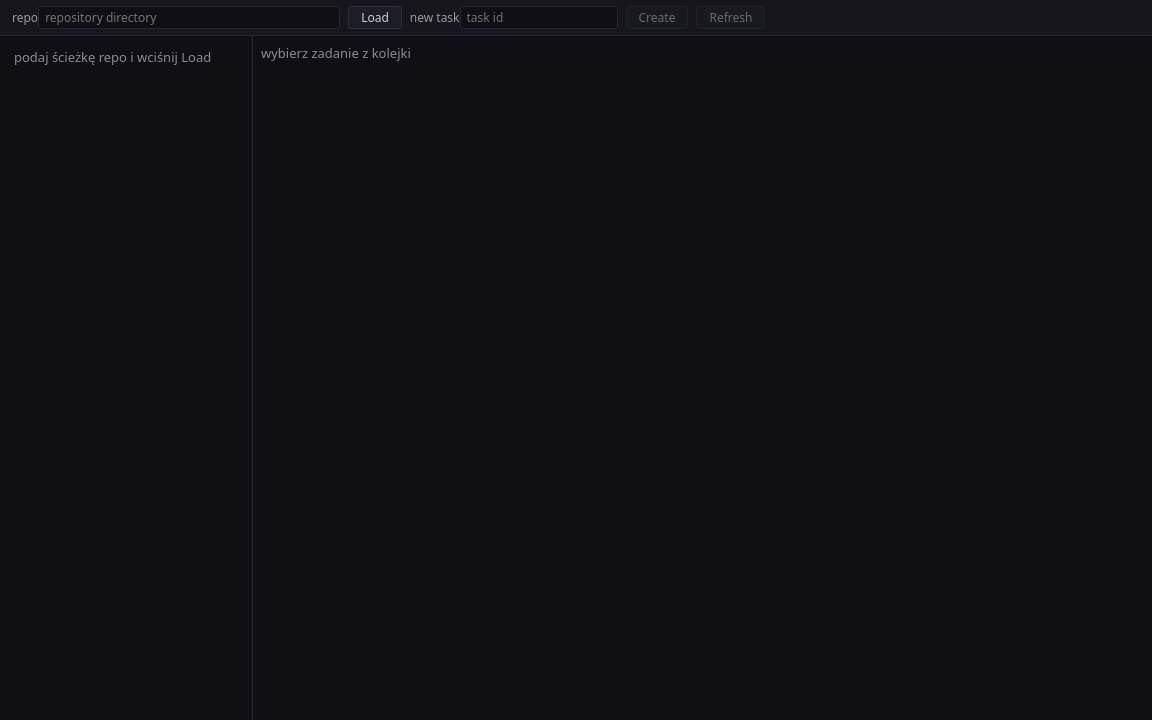
ReviewPanel › switches the patch when another file is selected
Step 1. Type "C:/repo" into the field with test id "review-repo" → (189, 18), box top-left (38, 6), bottom-right (340, 29)
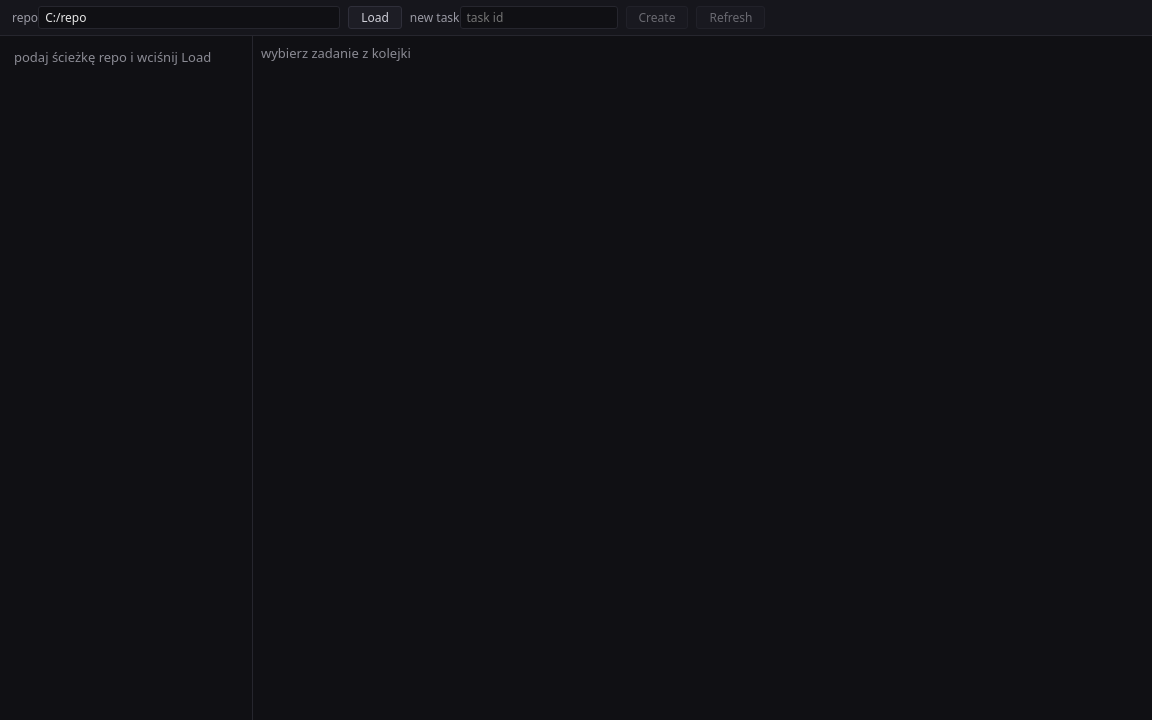
Step 2. Click the button with test id "review-load" → (375, 18), box top-left (348, 6), bottom-right (402, 29)
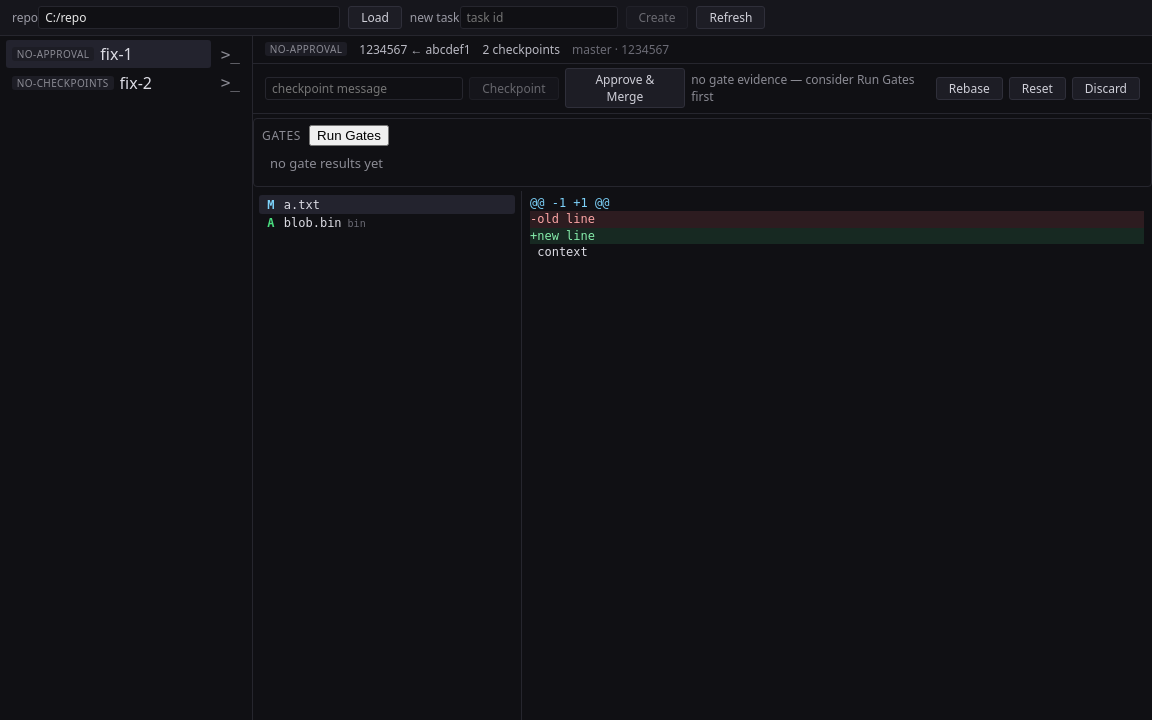
Step 3. Click the button with test id "review-file" showing "A blob.bin bin" → (387, 223), box top-left (259, 214), bottom-right (515, 233)
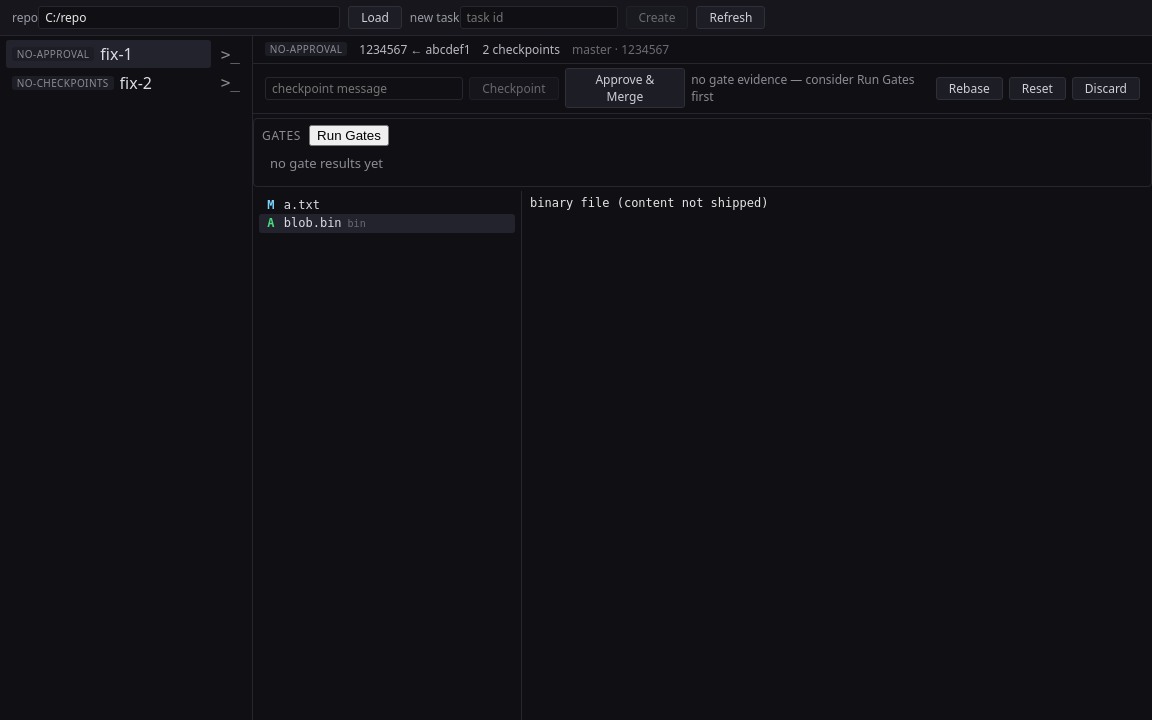
Result: the text with test id "review-patch" shows "binary file" at top-left (530, 196), bottom-right (768, 210)
